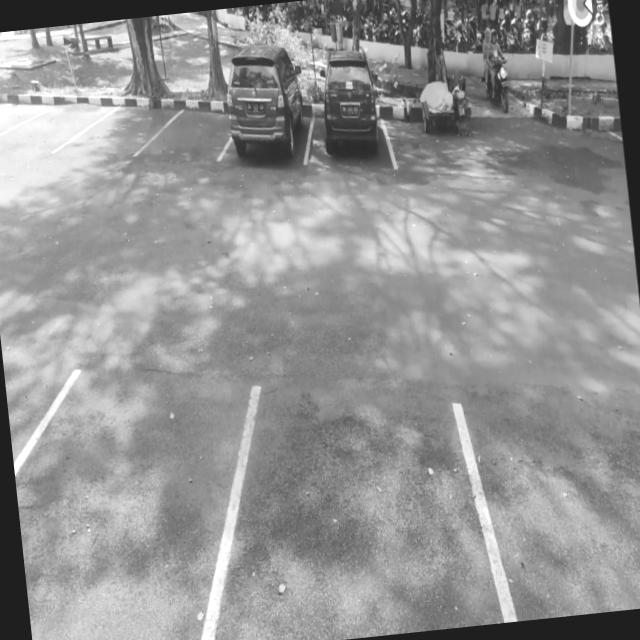car: (213, 61, 312, 174), (301, 65, 397, 176)
free: (217, 360, 509, 640), (4, 350, 250, 640), (152, 96, 234, 172), (76, 94, 162, 164), (0, 93, 89, 160)
